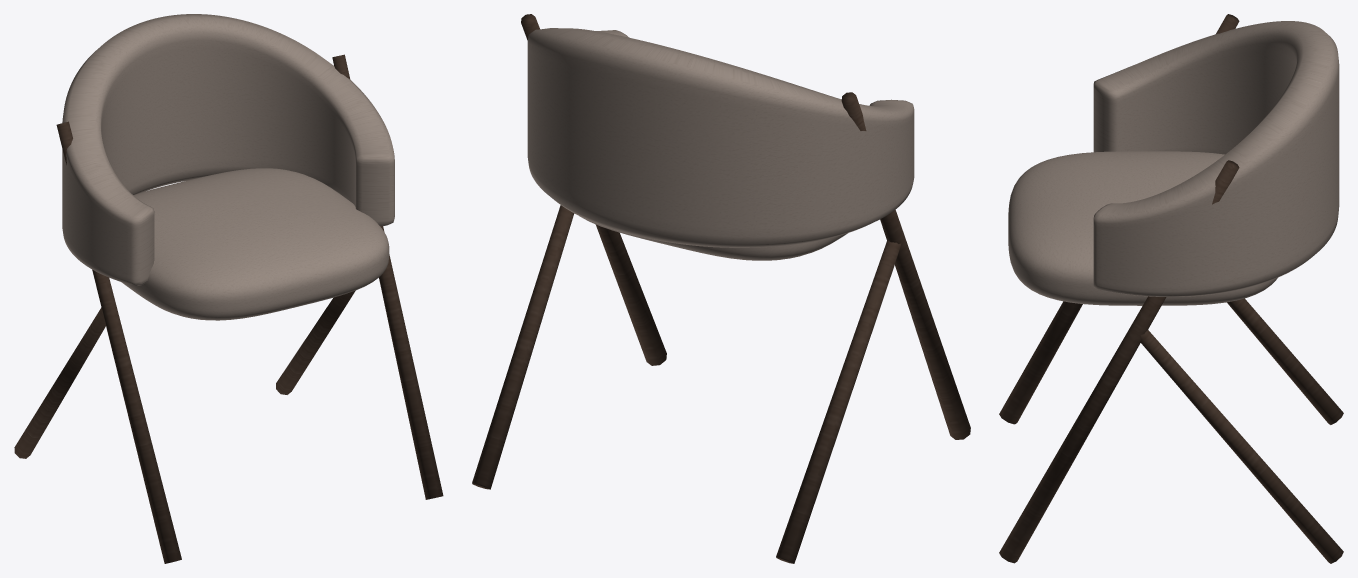
File: tokyo-dining-set--dchair.glb
3 views of the same model, side by side, from view 1: azimuth 30°, elevation 25°; view 2: azimuth 150°, elevation 25°; view 3: azimuth 270°, elevation 25° (orthographic). The views are drawn at different scales.
Visible parts, largest first — view 1: shell, seat, lf-1, lf1, lb-1, lb1; view 2: shell, lb-1, lb1, lf-1, lf1, seat; view 3: shell, seat, lf1, lb1, lf-1, lb-1.
Part boxes in pixels (bbox=[...]): shell: bbox=[62, 14, 394, 285]; seat: bbox=[121, 168, 389, 320]; lf-1: bbox=[56, 121, 181, 563]; lf1: bbox=[332, 54, 443, 499]; lb-1: bbox=[14, 307, 105, 458]; lb1: bbox=[276, 290, 355, 394]; shell: bbox=[527, 28, 914, 247]; lb-1: bbox=[776, 240, 901, 563]; lb1: bbox=[472, 205, 574, 489]; lf-1: bbox=[841, 92, 970, 439]; lf1: bbox=[521, 14, 666, 365]; seat: bbox=[579, 216, 847, 260]; shell: bbox=[1093, 21, 1339, 296]; seat: bbox=[1008, 151, 1277, 305]; lf1: bbox=[999, 160, 1239, 563]; lb1: bbox=[1140, 330, 1343, 563]; lf-1: bbox=[999, 14, 1239, 424]; lb-1: bbox=[1227, 298, 1343, 424].
Size of the model in its own units: 0.6096 by 0.8084 by 0.5677.
Materials: 2 (2 with a texture image).
